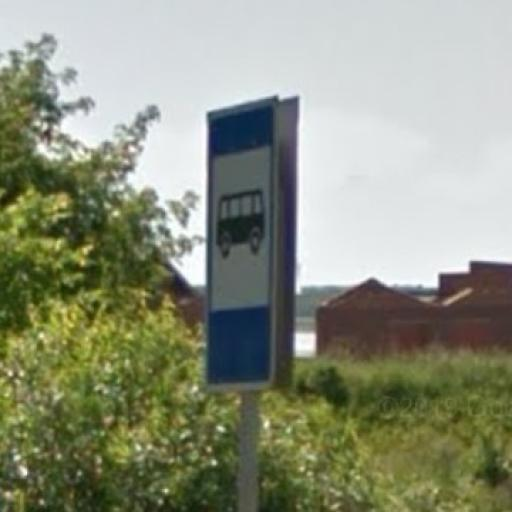traffic_sign: (206, 94, 283, 391)
